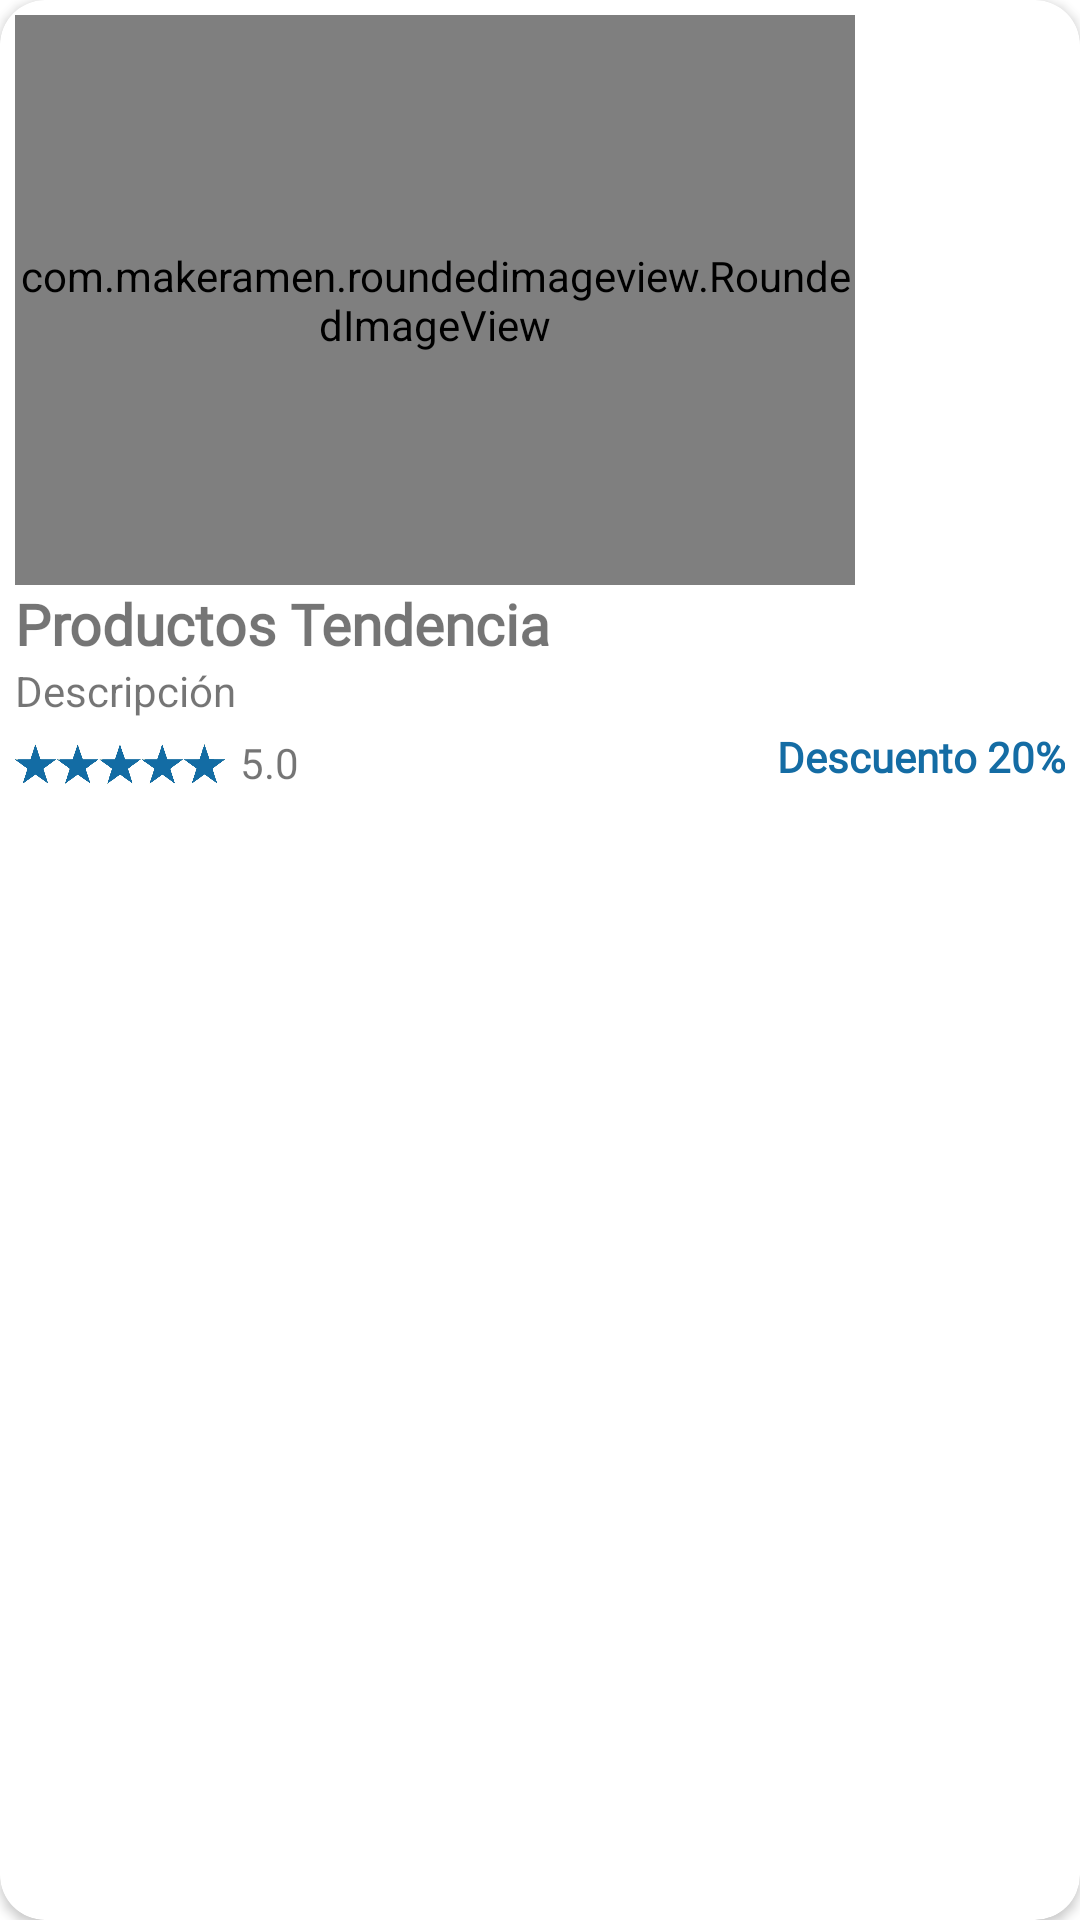

Icon click points for this 1080 x 1920 phone screenshot, format [x,y]:
ratingbar: [120,764]
